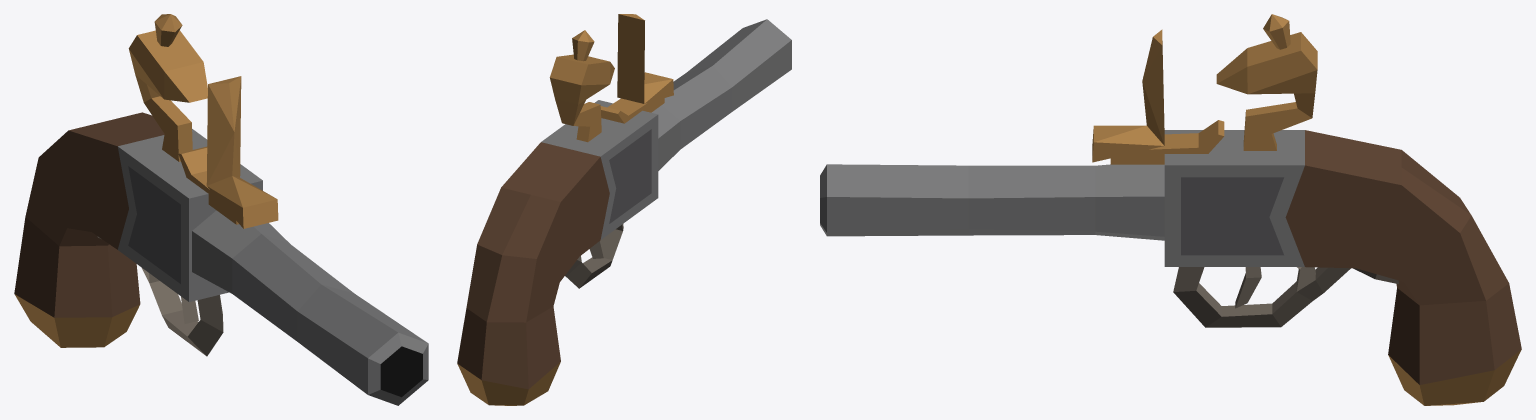
The model's file is SM_Wep_Pistol_02_Separate.glb.
3 renders of one model, left to right at view 1: azimuth 30°, elevation 25°; view 2: azimuth 150°, elevation 25°; view 3: azimuth 270°, elevation 25°, orthographic. The views are drawn at different scales.
Parts seen in each view (by area): view 1: SM_Wep_Pistol_01_Trigger; view 2: SM_Wep_Pistol_01_Trigger; view 3: SM_Wep_Pistol_01_Trigger.
Boxes of the visible parts, bbox=[...] form: SM_Wep_Pistol_01_Trigger: bbox=[14, 14, 428, 405]; SM_Wep_Pistol_01_Trigger: bbox=[457, 14, 791, 405]; SM_Wep_Pistol_01_Trigger: bbox=[820, 14, 1521, 405].
Size of the model in its own units: 0.000499 by 0.00215 by 0.0035.
